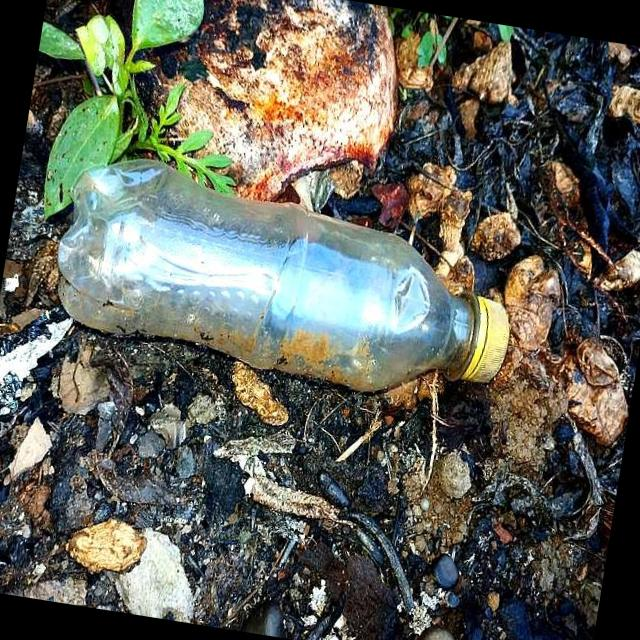Non-biodegradable: (46, 146, 532, 416)
